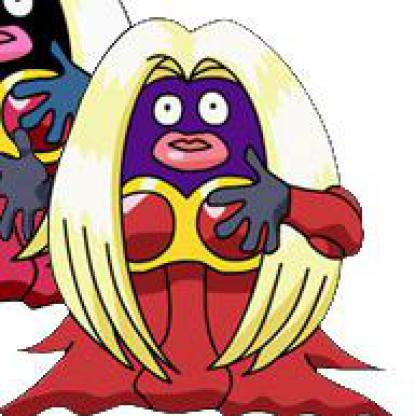Jynx: (1, 1, 400, 415)
